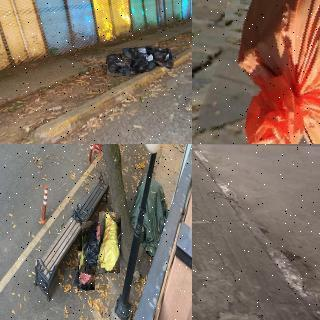Garbage: (204, 0, 320, 144), (80, 222, 105, 274), (99, 212, 120, 273), (75, 250, 98, 291), (106, 53, 131, 77), (123, 47, 146, 61), (152, 49, 170, 62)
